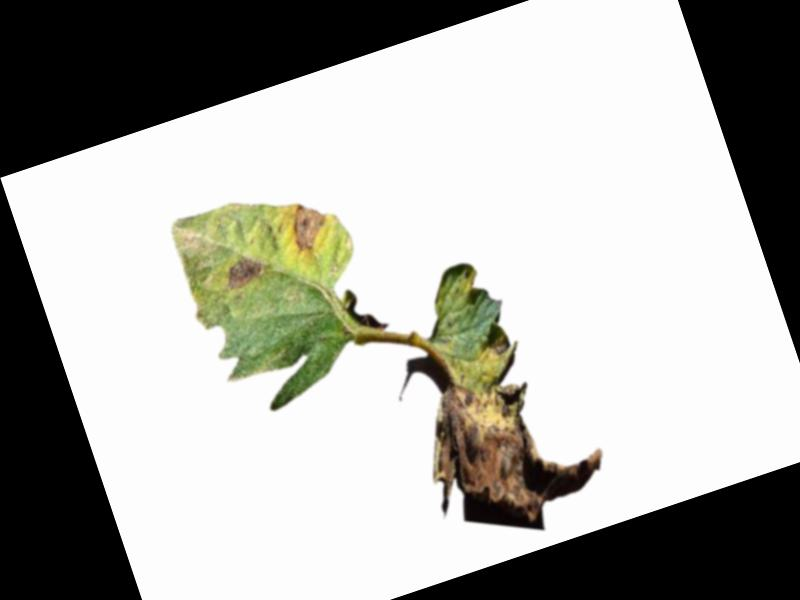Early_blight: (394, 315, 619, 548), (285, 197, 334, 253), (222, 250, 270, 291)
